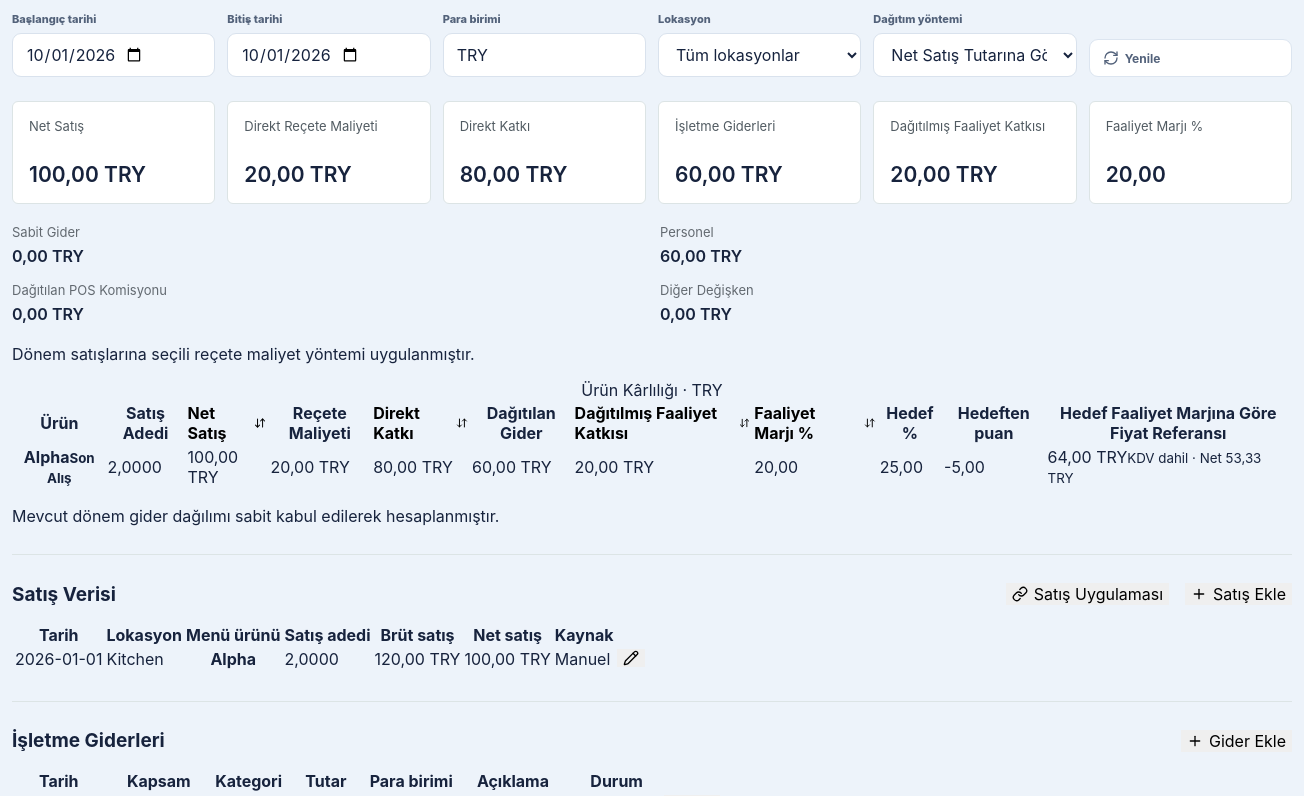
Scenario: operating report › does not request an invalid period
Expected: the text "Ürün Kârlılığı · TRY" is shown, [581,380,723,400]
Type "2099-01-01" into the date field labelled "Başlangıç tarihi" at (114, 55), box [12,33,215,77]
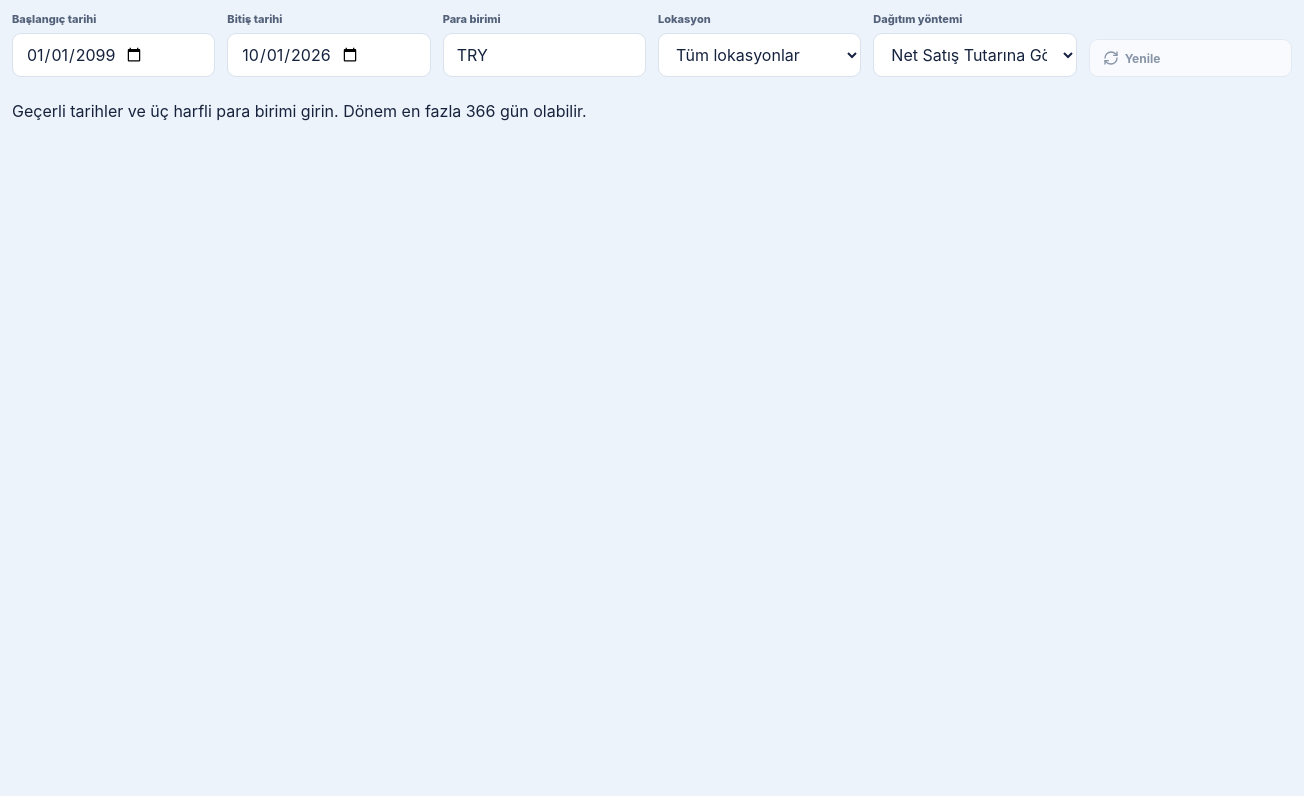
Now the message shows "366", box [12,101,587,121]
